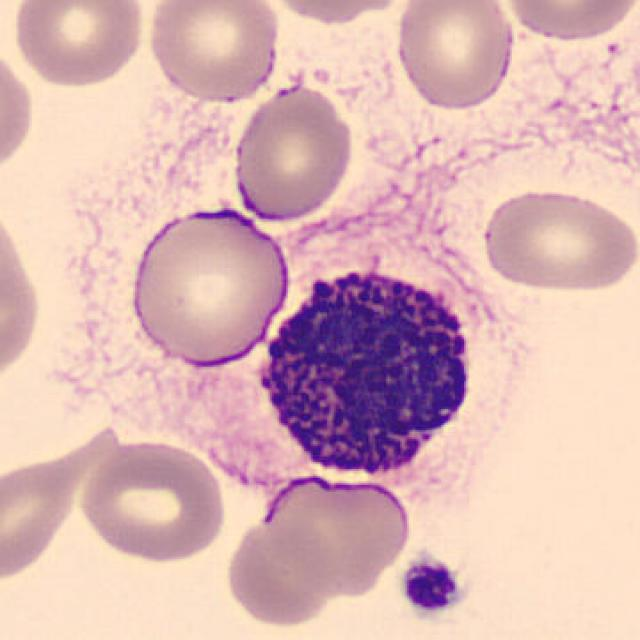Basophil: (242, 248, 521, 501)
Platelets: (397, 552, 468, 617)
RBC: (126, 201, 294, 370), (2, 421, 132, 589), (75, 435, 229, 566), (258, 469, 416, 596), (230, 81, 358, 224), (476, 185, 636, 295), (144, 0, 283, 104), (220, 512, 342, 630), (393, 0, 519, 113), (9, 0, 147, 90), (0, 199, 46, 393), (502, 0, 638, 44), (0, 40, 37, 181), (259, 0, 412, 26)
